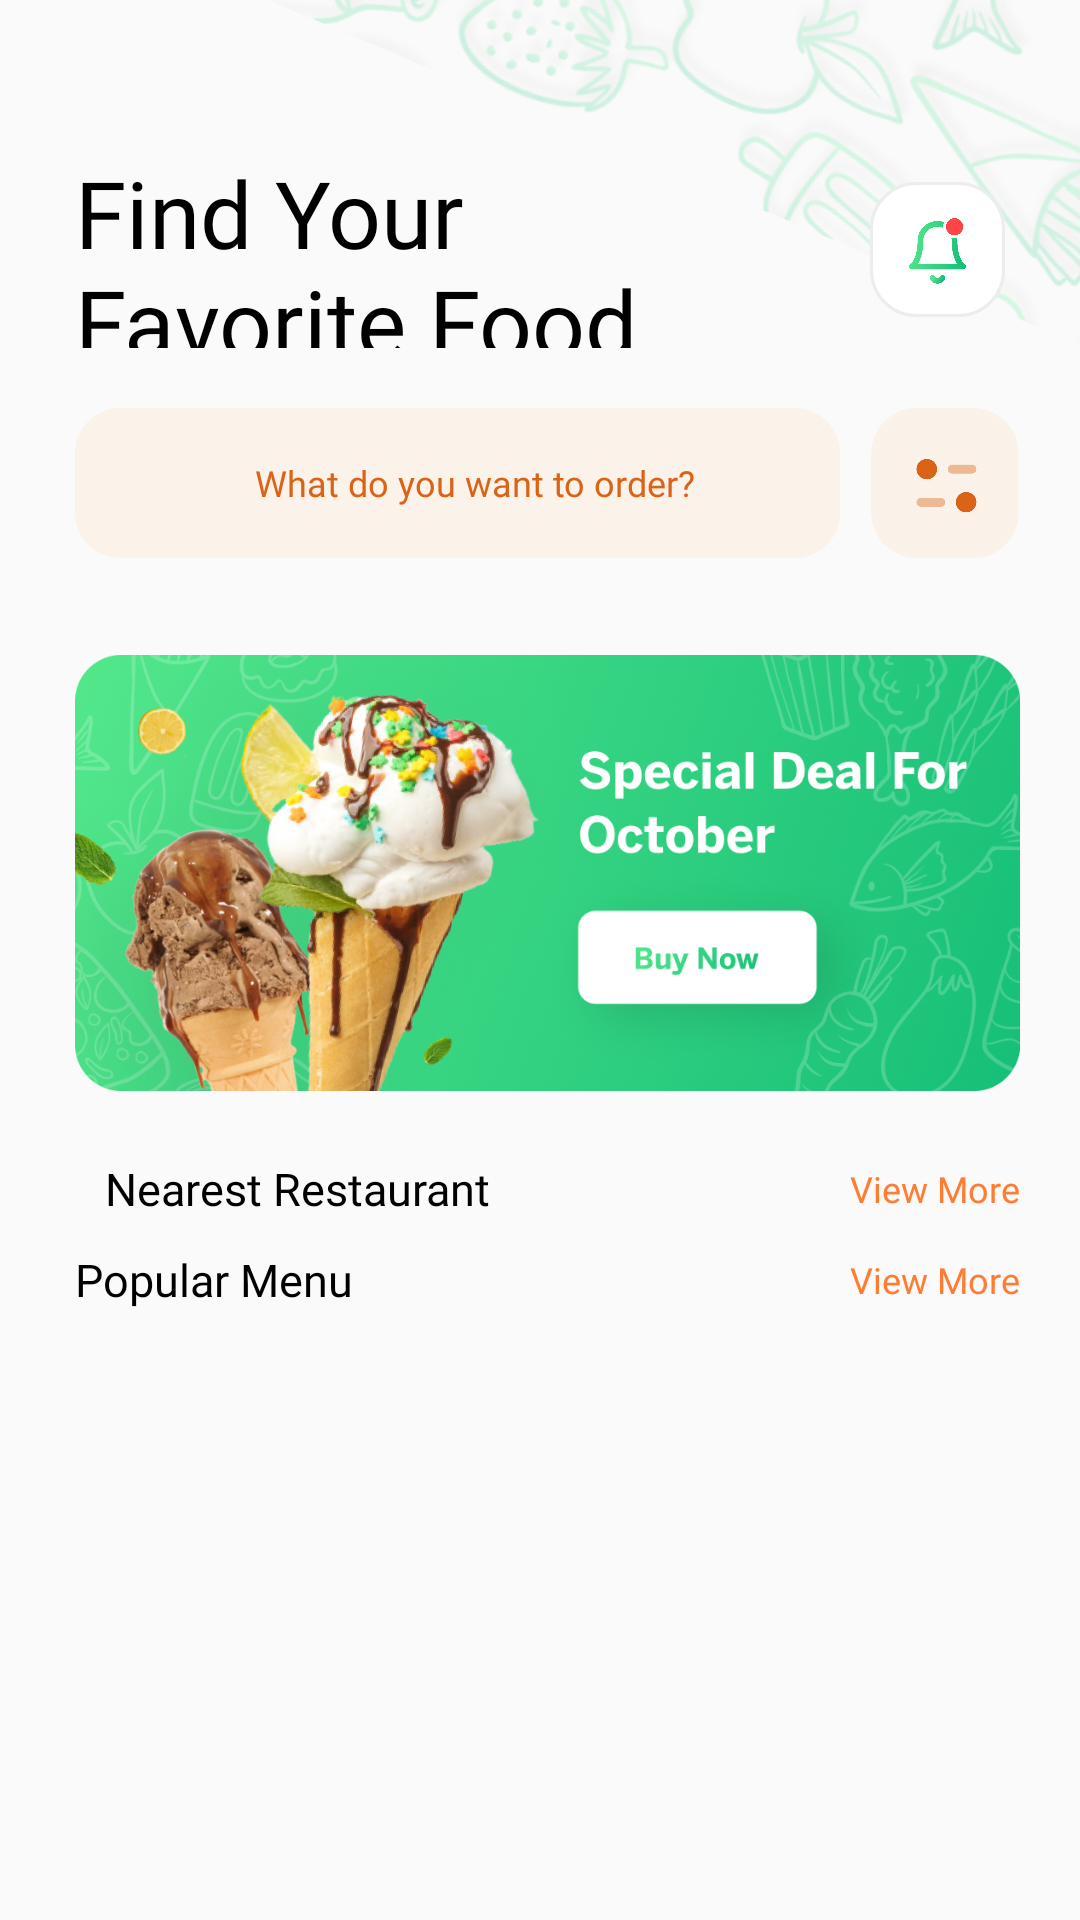

Named icons in this screenshot (1080*1920) and their centers, (x=x, y=y):
filter: (x=945, y=483)
notification: (x=937, y=251)
